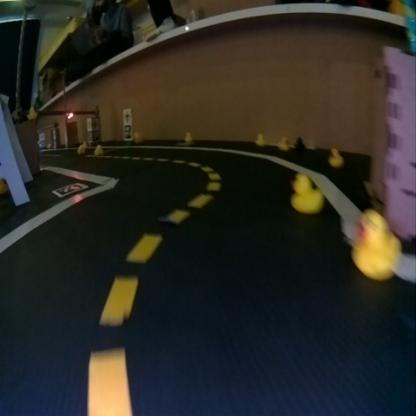Duckie: (352, 211, 400, 281), (290, 174, 322, 212), (328, 148, 343, 167), (278, 136, 288, 150), (27, 106, 37, 118), (255, 132, 264, 144), (133, 132, 142, 143), (94, 144, 102, 155), (185, 132, 191, 140), (78, 144, 84, 152)
Intersection sign: (123, 111, 129, 122)
QR code: (52, 182, 86, 197), (92, 129, 100, 142), (124, 124, 130, 139)
